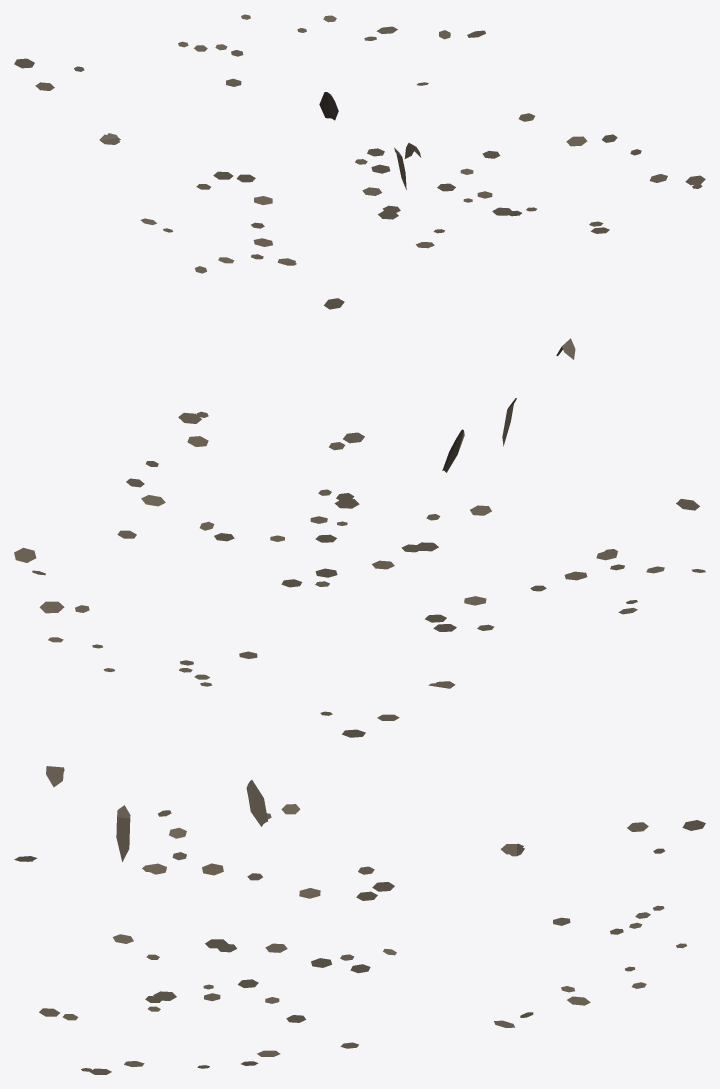
Rendered from dam_tailwater_bar_detail1.glb.
The picture shows the model from 3 angles, top to bottom: view 1: azimuth 30°, elevation 25°; view 2: azimuth 150°, elevation 25°; view 3: azimuth 270°, elevation 25°; orthographic projection. The views are drawn at different scales.
Parts seen in each view (by area): view 1: dam_tailwater_bar_detail1; view 2: dam_tailwater_bar_detail1; view 3: dam_tailwater_bar_detail1.
Boxes of the visible parts, <box> form: dam_tailwater_bar_detail1: <box>14,14,705,309</box>; dam_tailwater_bar_detail1: <box>14,338,705,737</box>; dam_tailwater_bar_detail1: <box>14,766,705,1074</box>.
Size of the model in its own units: 55.31 by 15.2 by 61.75.
